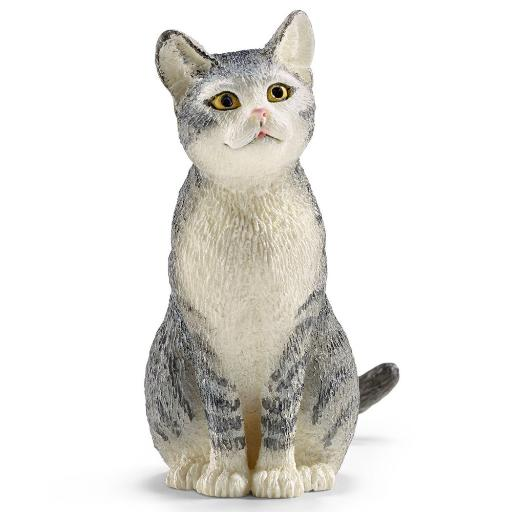cat_sitting: (145, 11, 398, 497)
